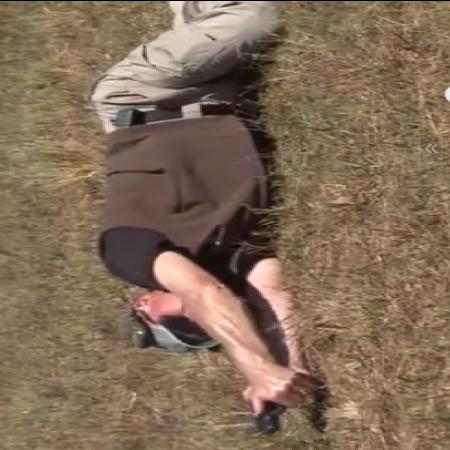Pistol: (230, 379, 304, 433)
